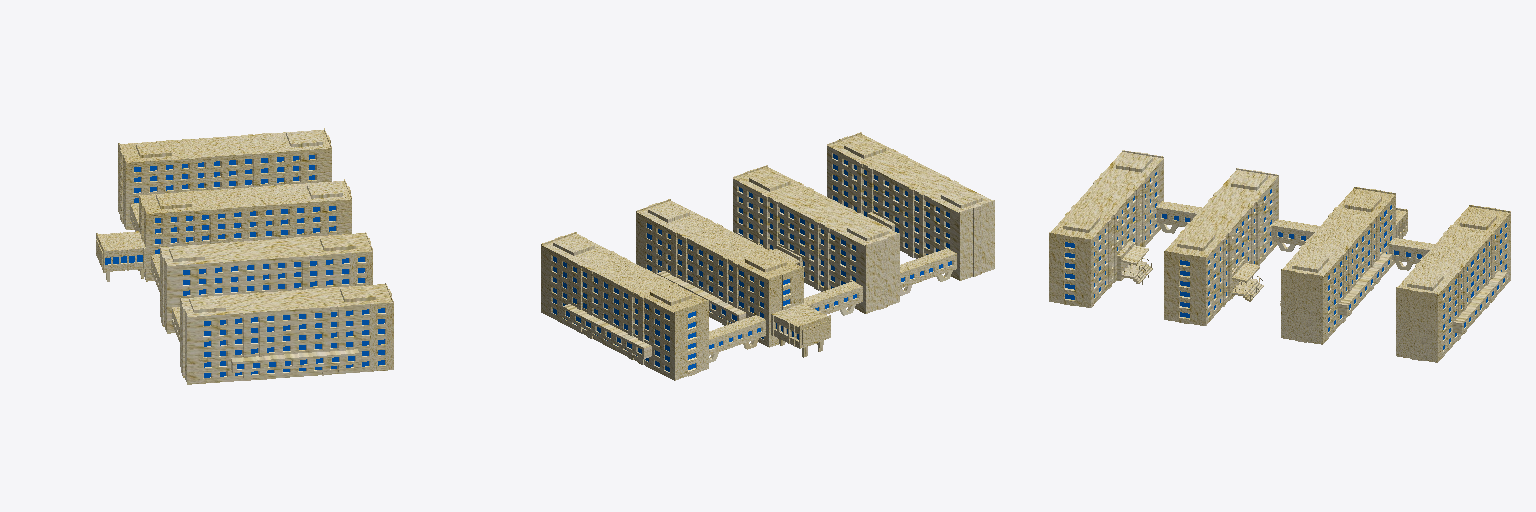
3 views of the same model, side by side, from view 1: azimuth 30°, elevation 25°; view 2: azimuth 150°, elevation 25°; view 3: azimuth 270°, elevation 25° (orthographic).
Visible parts, largest first — view 1: Politechnika; view 2: Politechnika; view 3: Politechnika.
Boxes of the visible parts, x1=… form: Politechnika: x1=96, y1=128, x2=393, y2=384; Politechnika: x1=541, y1=132, x2=994, y2=380; Politechnika: x1=1049, y1=150, x2=1510, y2=362.
Bounding box in the file's own units: 13.63 × 3.16 × 18.47.
1 materials, 1 textured.